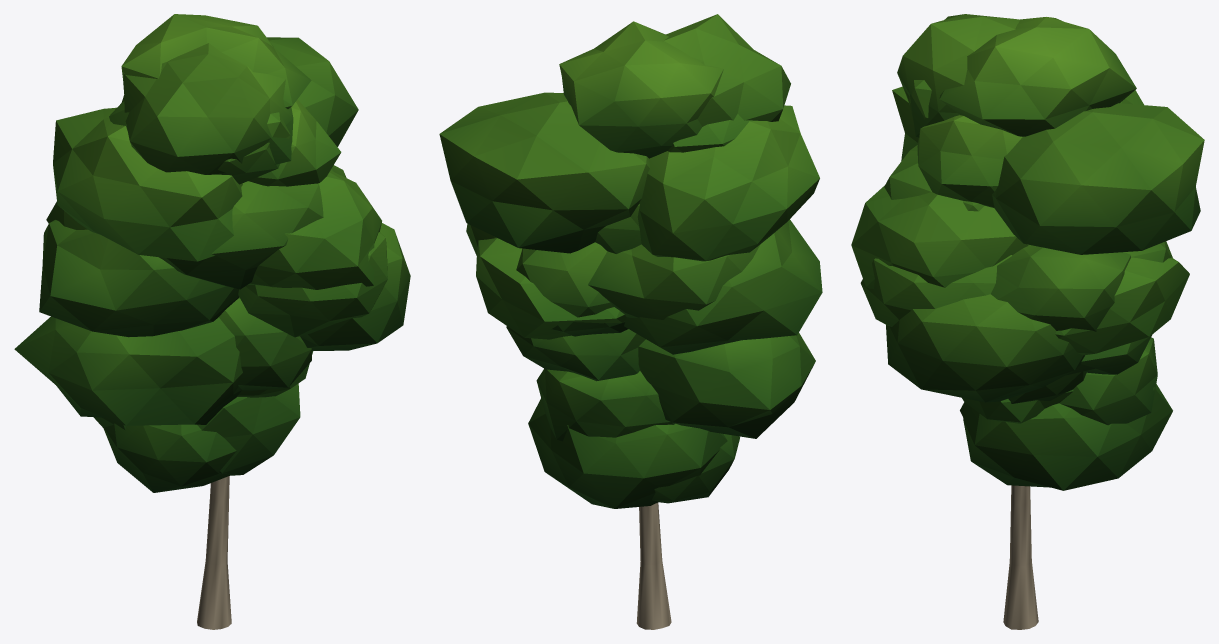
File: red-alder-b.glb
3 renders of one model, left to right at view 1: azimuth 30°, elevation 25°; view 2: azimuth 150°, elevation 25°; view 3: azimuth 270°, elevation 25°, orthographic.
Parts seen in each view (by area): view 1: red-alder-b.Leaves, red-alder-b.Bark; view 2: red-alder-b.Leaves, red-alder-b.Bark; view 3: red-alder-b.Leaves, red-alder-b.Bark.
Part boxes in pixels (bbox=[...]): red-alder-b.Leaves: bbox=[14, 14, 410, 492]; red-alder-b.Bark: bbox=[197, 476, 231, 629]; red-alder-b.Leaves: bbox=[439, 14, 822, 508]; red-alder-b.Bark: bbox=[636, 502, 671, 629]; red-alder-b.Leaves: bbox=[851, 14, 1204, 490]; red-alder-b.Bark: bbox=[1003, 485, 1038, 629].
Bounding box in the file's own units: 7.79 × 13.02 × 7.
